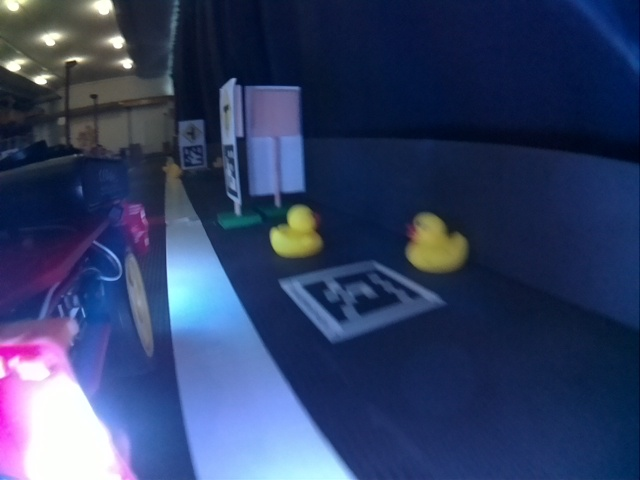Duckie: (406, 216, 468, 272), (271, 208, 323, 257), (167, 164, 179, 179), (213, 158, 223, 166)
Duckiebot: (0, 157, 155, 407)
Intersection sign: (221, 92, 234, 141), (181, 125, 198, 142)
QR code: (279, 261, 444, 345), (224, 156, 239, 199), (184, 147, 203, 167)
